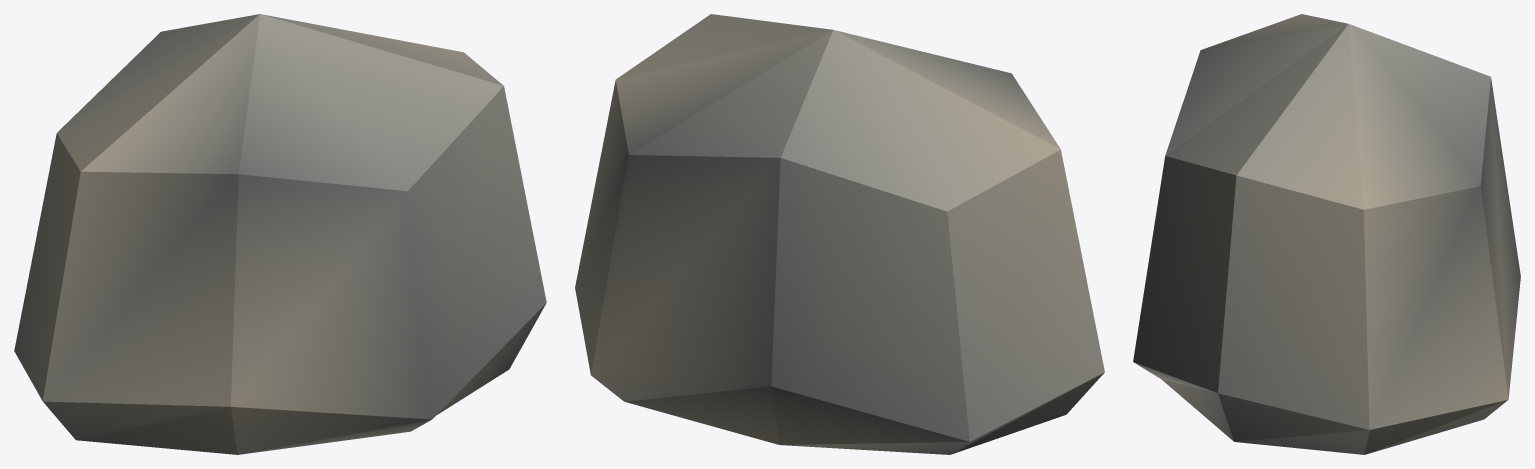
Rendered from ENV_Rock_C_LOD0.glb.
3 views of the same model, side by side, from view 1: azimuth 30°, elevation 25°; view 2: azimuth 150°, elevation 25°; view 3: azimuth 270°, elevation 25° (orthographic). The views are drawn at different scales.
Visible parts, largest first — view 1: ENV_Rock_C_LOD0_rock; view 2: ENV_Rock_C_LOD0_rock; view 3: ENV_Rock_C_LOD0_rock.
Boxes of the visible parts, left/top/right/bottom form: ENV_Rock_C_LOD0_rock: left=14, top=14, right=546, bottom=454; ENV_Rock_C_LOD0_rock: left=575, top=14, right=1104, bottom=454; ENV_Rock_C_LOD0_rock: left=1133, top=14, right=1520, bottom=454.
Bounding box in the file's own units: 1.46 × 1 × 1.06.
